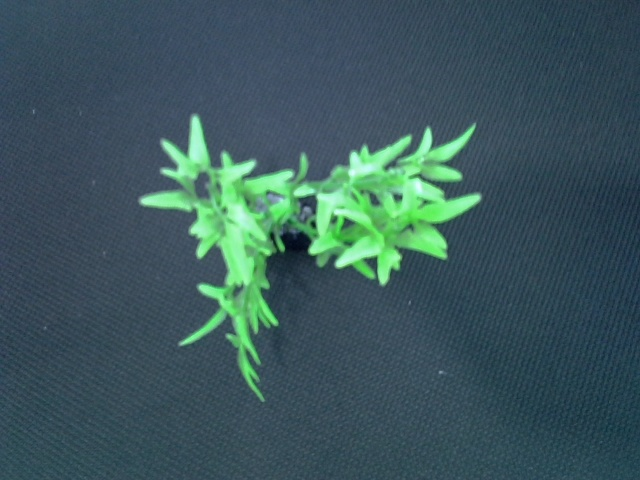튤립새싹: (147, 116, 482, 398)
